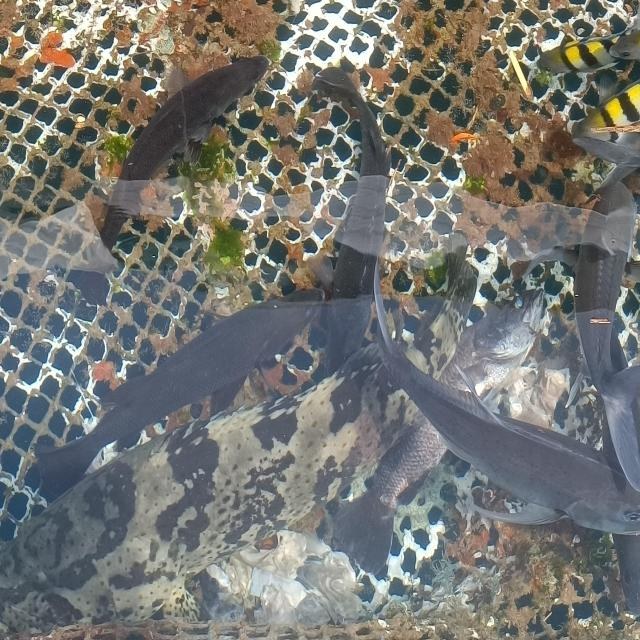ikan: (34, 289, 330, 509), (406, 348, 634, 554), (84, 45, 274, 230), (302, 37, 396, 353), (567, 163, 636, 395), (534, 18, 633, 90)
